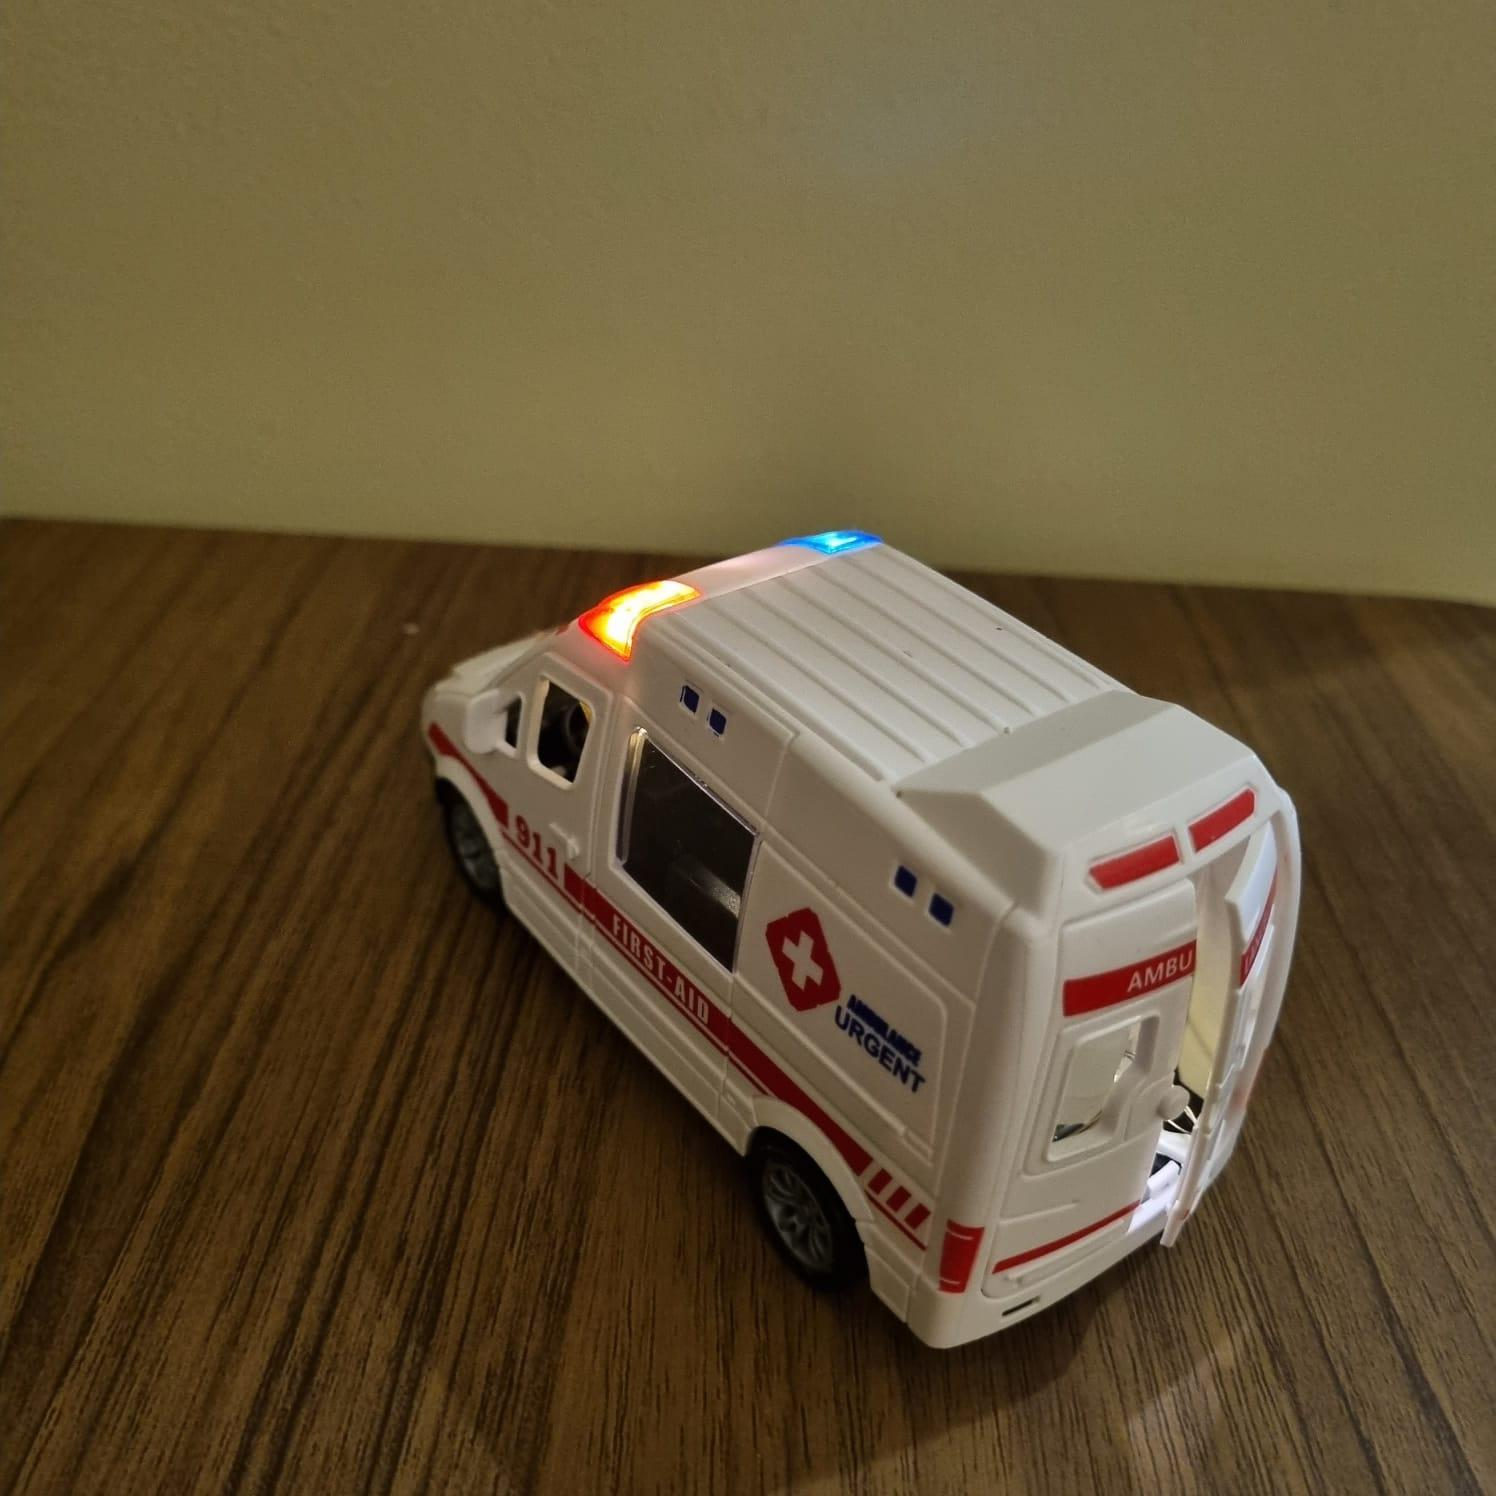ambulance_on: (429, 526, 1311, 1366)
